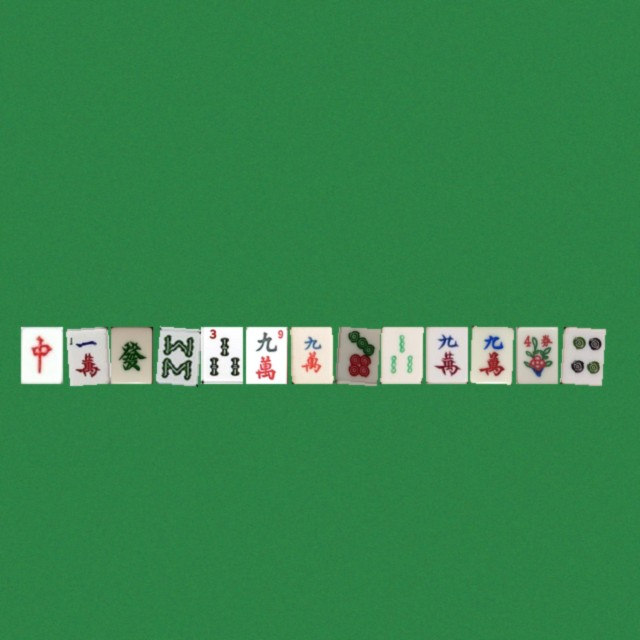tile: (20, 326, 62, 383), (65, 326, 107, 383), (110, 326, 152, 383), (155, 326, 197, 383), (200, 326, 242, 383), (245, 326, 287, 383), (290, 326, 332, 383), (335, 326, 377, 383), (380, 326, 422, 383), (425, 326, 467, 383), (470, 326, 512, 383), (515, 326, 557, 383), (560, 326, 602, 383)
